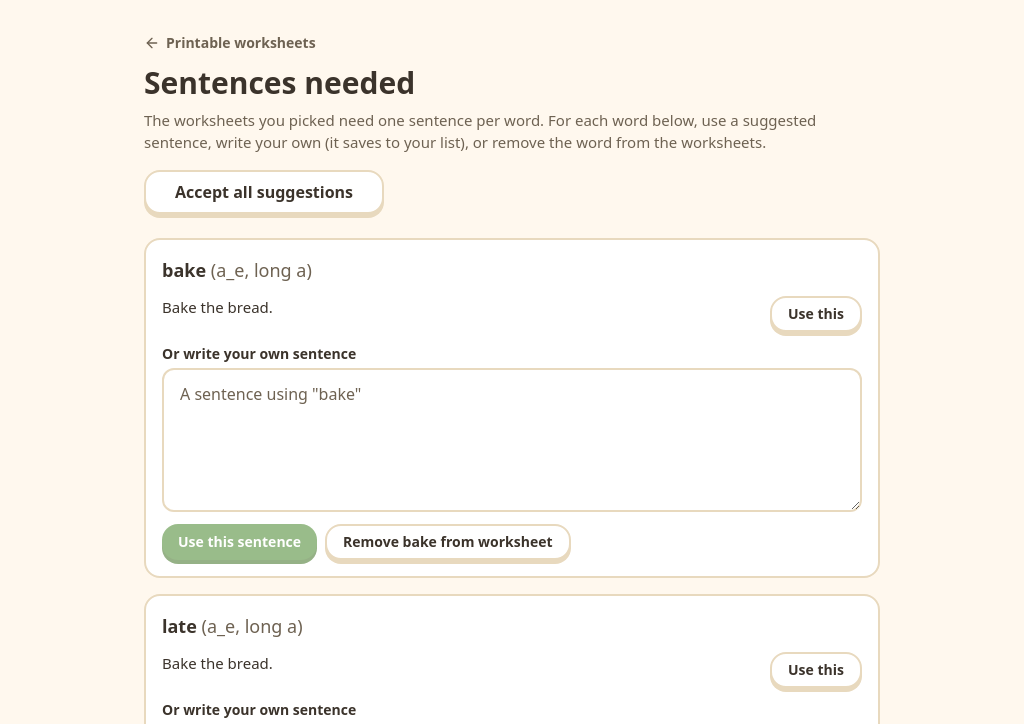
Test case: WorksheetsPrintPage › approve-all two-state button (issue #511) › saves every draft in a single write and advances to the preview
Check: the heading "Sentences needed" is shown, box [144,62,415,102]
Click the button "Accept all suggestions" at (264, 192), box [144,170,384,214]
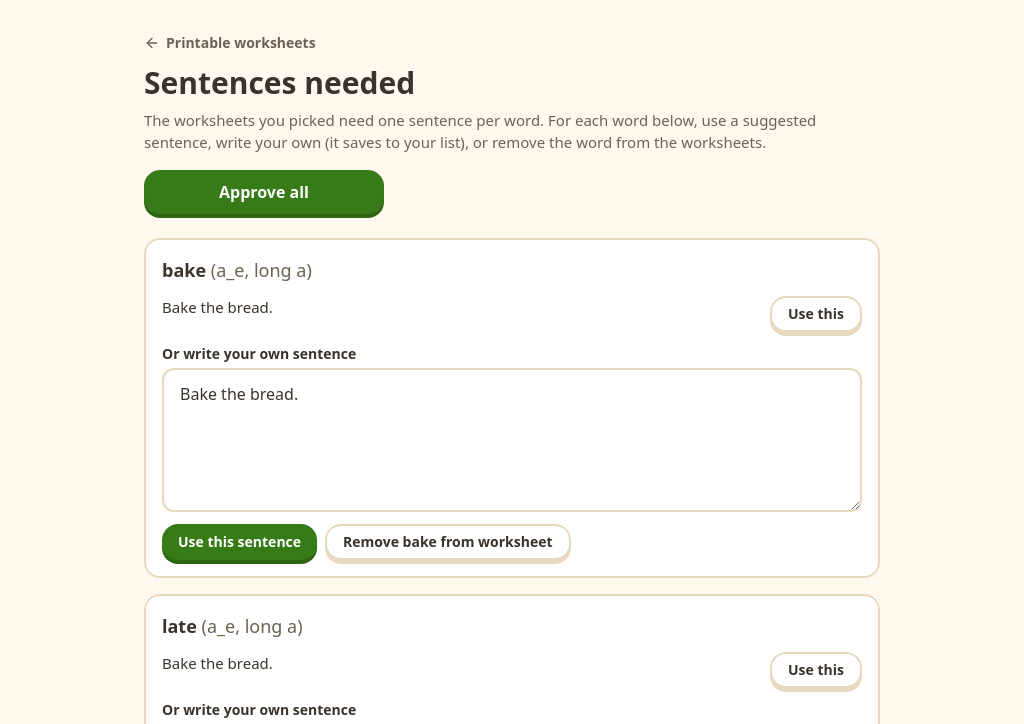
Click the button "Approve all" at (264, 192), box [144,170,384,214]
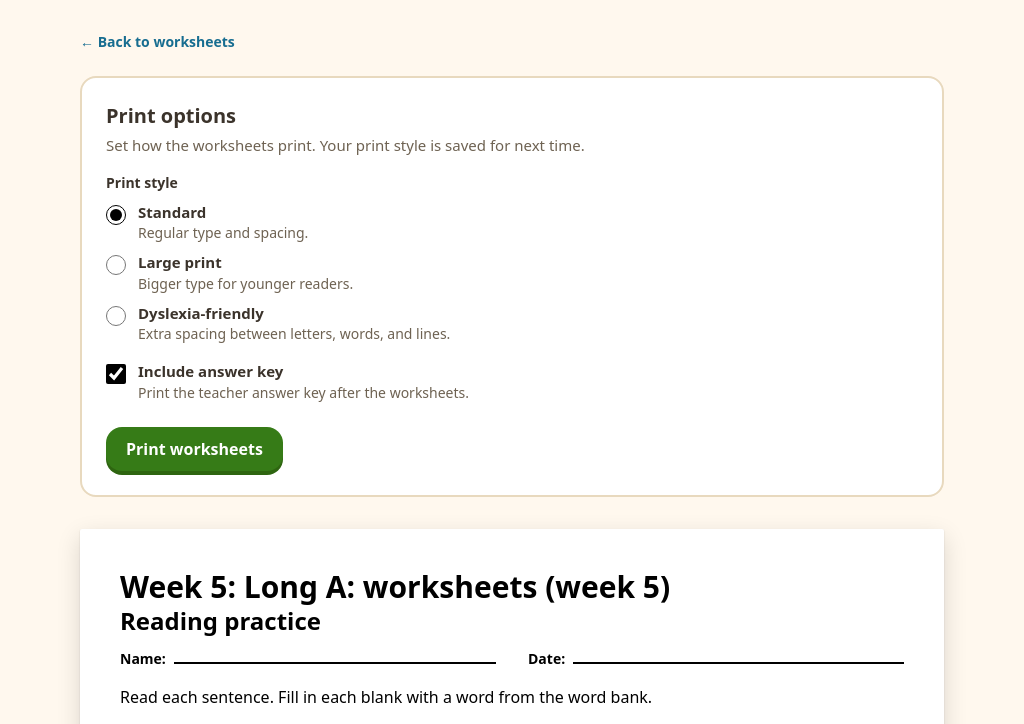
Check: the number of headings "Reading practice" is 2
